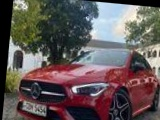car: (15, 39, 160, 120)
